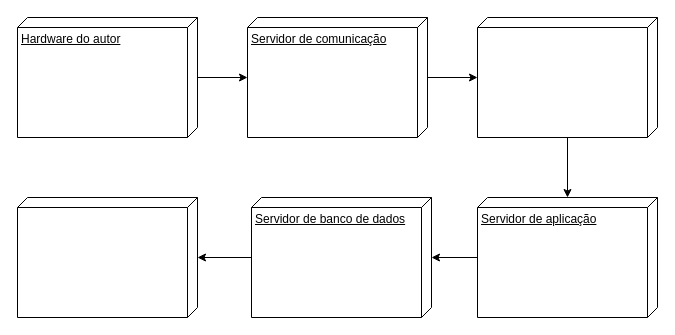
Image size: 675x335. Some labels were removed from this diagram. The centre of each missing label's shape, as x and y in pixels:
"Servidor de aplicação 2" belongs at pixel 107 257.
"Servidor de firewall" belongs at pixel 567 77.
